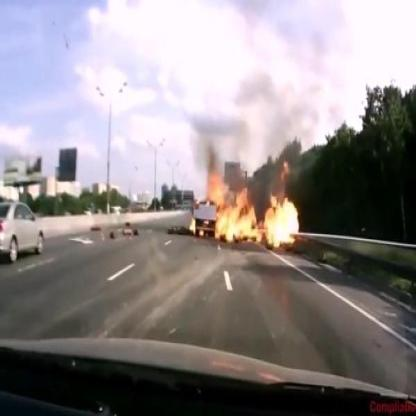fire: (206, 157, 298, 254), (188, 212, 197, 235)
